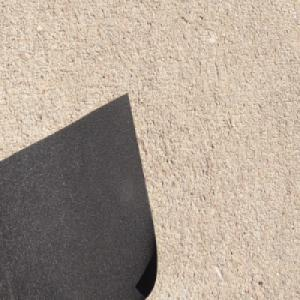PaintChip: (0, 86, 165, 300)
